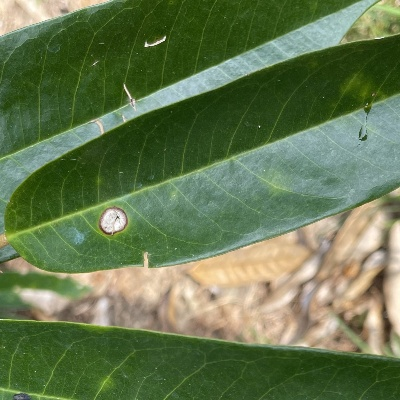Leaf_Phomopsis: (0, 0, 400, 281)
